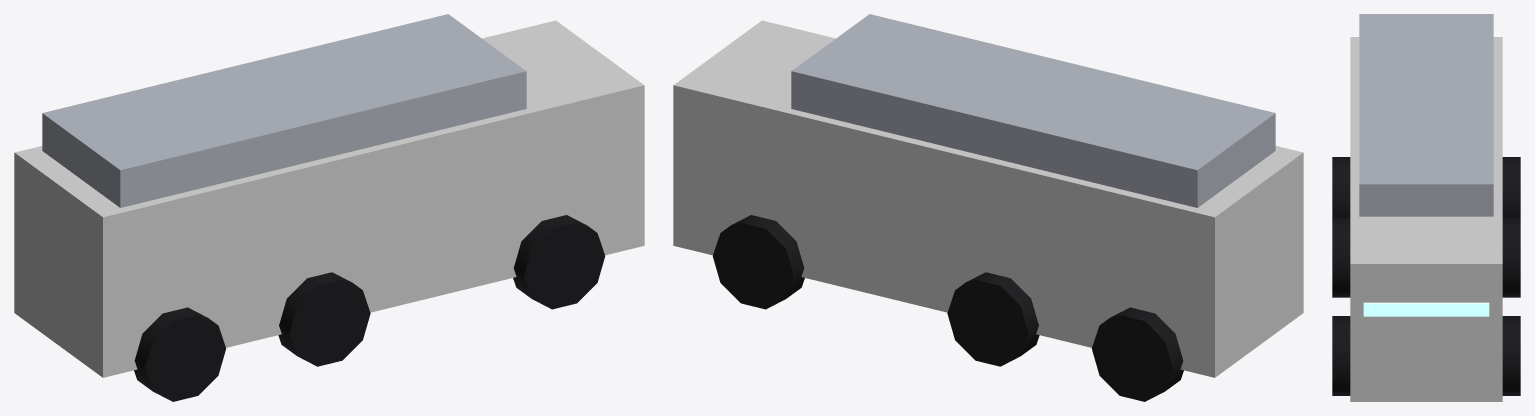
File: truck_2028.glb
The picture shows the model from 3 angles, left to right: view 1: azimuth 30°, elevation 25°; view 2: azimuth 150°, elevation 25°; view 3: azimuth 270°, elevation 25°; orthographic projection. The views are drawn at different scales.
Parts seen in each view (by area): view 1: Body, Cargo, truck_w0_1, truck_w1_1, truck_w2_1; view 2: Body, Cargo, truck_w0_-1, truck_w1_-1, truck_w2_-1; view 3: Body, Cargo, Sensors, truck_w1_-1, truck_w1_1, truck_w2_-1, truck_w2_1, truck_w0_-1, truck_w0_1.
Part boxes in pixels (box(x1,y1,x2,y2)): Body: box(14, 20, 644, 377); Cargo: box(42, 14, 526, 207); truck_w0_1: box(134, 307, 226, 401); truck_w1_1: box(278, 272, 370, 366); truck_w2_1: box(513, 215, 605, 309); Body: box(673, 20, 1303, 377); Cargo: box(791, 14, 1275, 207); truck_w0_-1: box(1091, 307, 1183, 401); truck_w1_-1: box(947, 272, 1039, 366); truck_w2_-1: box(712, 215, 804, 309); Body: box(1350, 37, 1502, 401); Cargo: box(1359, 14, 1493, 216); Sensors: box(1363, 302, 1489, 316); truck_w1_-1: box(1502, 217, 1520, 297); truck_w1_1: box(1332, 217, 1350, 297); truck_w2_-1: box(1502, 316, 1520, 395); truck_w2_1: box(1332, 316, 1350, 395); truck_w0_-1: box(1502, 157, 1520, 217); truck_w0_1: box(1332, 157, 1350, 217).
Size of the model in its own units: 0.605 by 0.2428 by 0.21.
